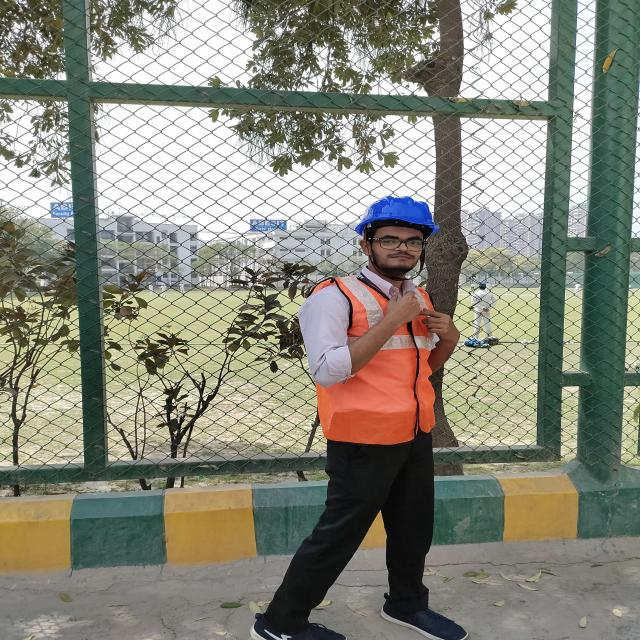safe: (300, 195, 460, 640)
